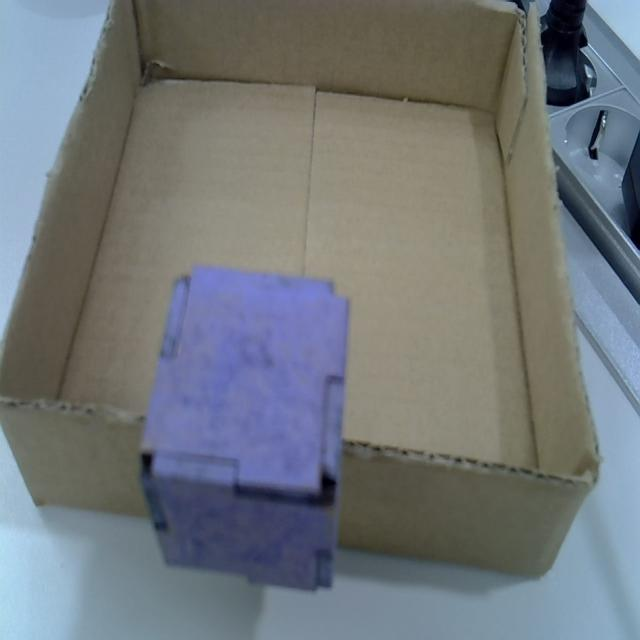purple_box: (142, 268, 350, 594)
